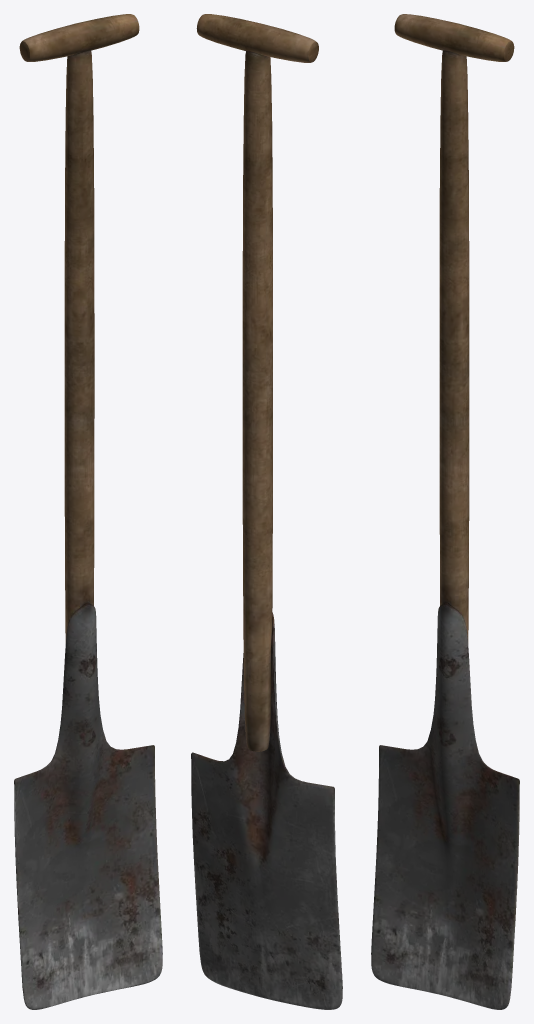
The model's file is rusted_spade_01.glb.
The picture shows the model from 3 angles, left to right: view 1: azimuth 30°, elevation 25°; view 2: azimuth 150°, elevation 25°; view 3: azimuth 330°, elevation 25°; orthographic projection. The views are drawn at different scales.
Visible parts, largest first — view 1: rusted_spade_01; view 2: rusted_spade_01; view 3: rusted_spade_01.
Part boxes in pixels (<box>): rusted_spade_01: <box>14,14,162,1009</box>; rusted_spade_01: <box>191,14,342,1009</box>; rusted_spade_01: <box>371,14,519,1009</box>.
Size of the model in its own units: 0.1681 by 1.1 by 0.0456.
1 material, 1 textured.
